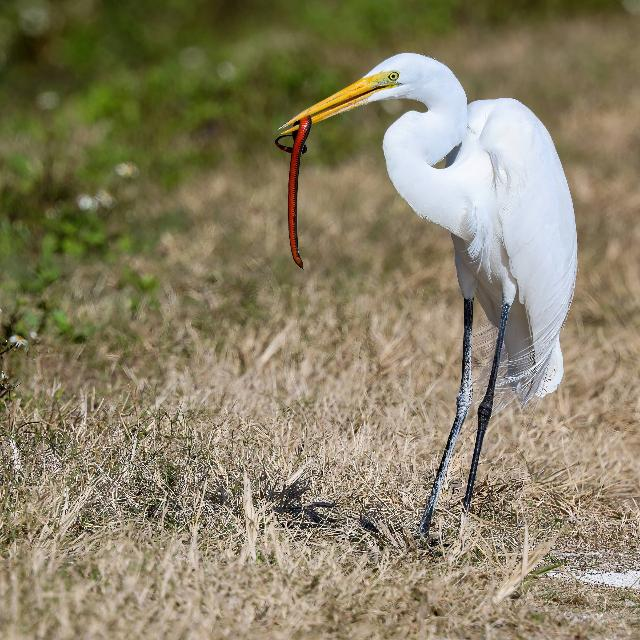egret: (258, 30, 596, 524)
